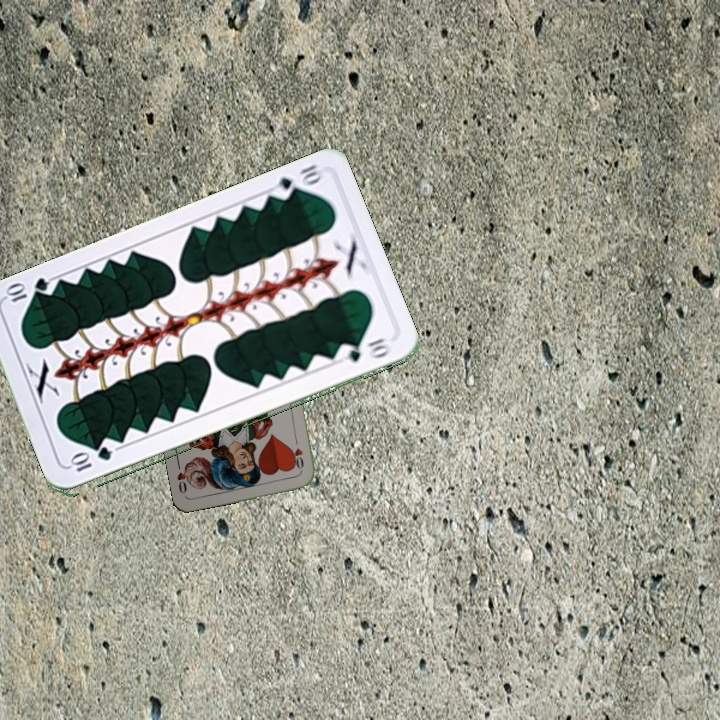G10: (267, 161, 324, 203), (66, 445, 115, 475)
HO: (290, 433, 306, 474)
